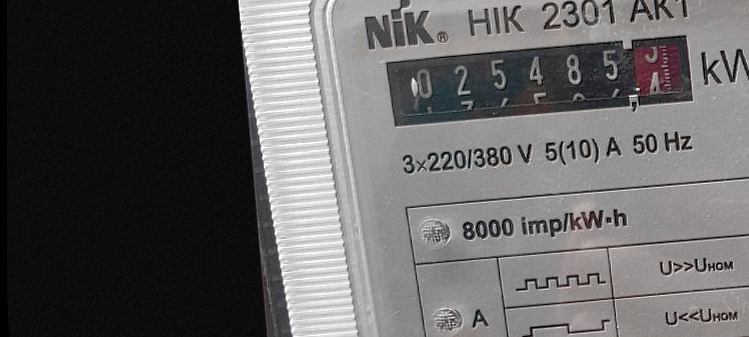0: (413, 65, 437, 101)
2: (452, 61, 475, 98)
4: (524, 52, 548, 88), (645, 68, 666, 97)
5: (599, 46, 623, 84), (488, 55, 510, 92)
8: (563, 49, 586, 88)
screen: (377, 26, 704, 139)
